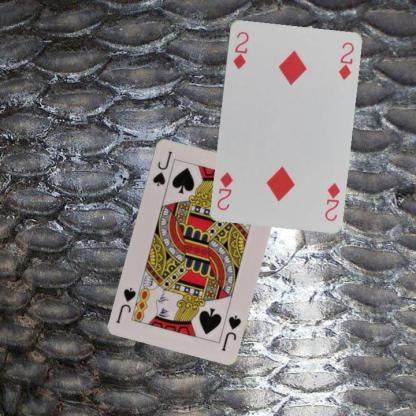2d: (230, 29, 250, 70), (322, 180, 341, 222)
Js: (218, 312, 242, 352), (150, 148, 174, 187)
